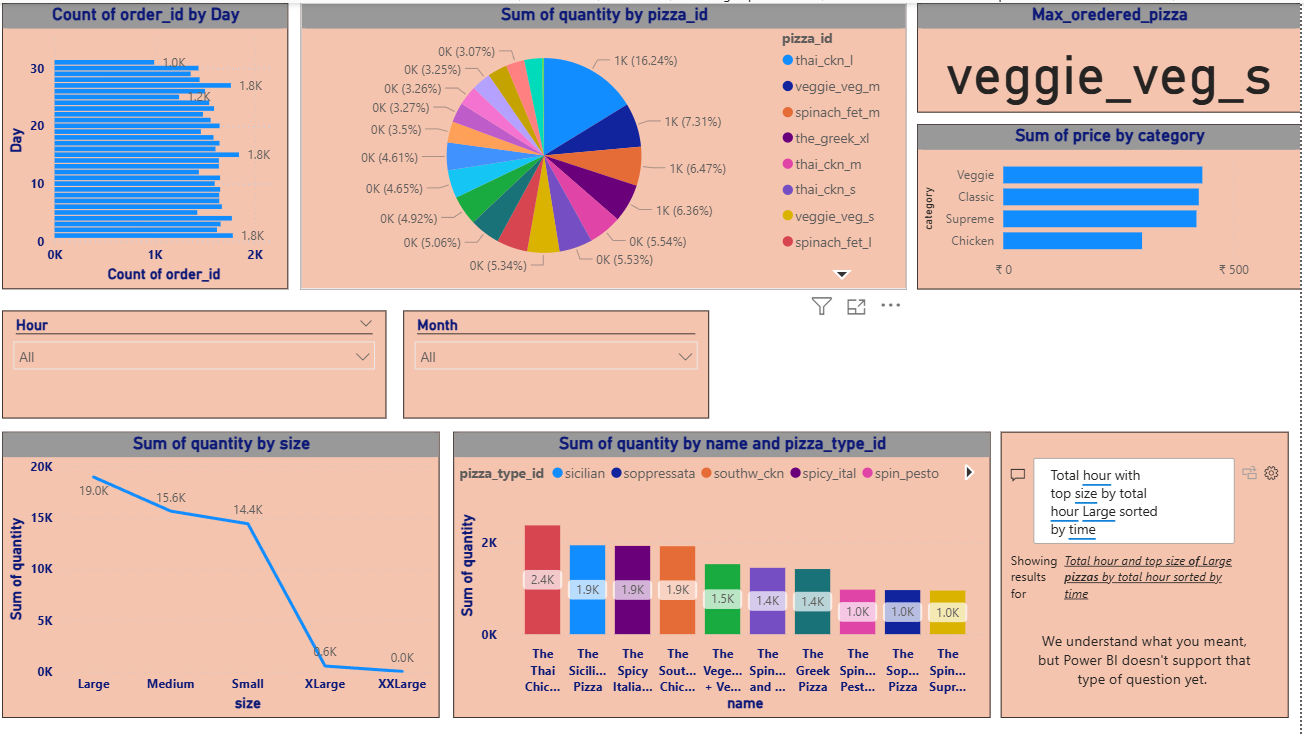

Layout of this report page (visuals, bound fields, positions):
{"tool":"powerbi","page":{"name":"Page 1","canvas":[1280,720],"ordinal":0},"visuals":[{"type":"barChart","fields":{"Y":["CountNonNull(Order details.order_id)"],"Category":["Orders.Day"]},"box":[10,0,280,280],"z":0},{"type":"card","title":"Max_oredered_pizza","fields":{"Values":["Order details.max_pizza"]},"box":[904.3,0,376,107],"z":1000},{"type":"pieChart","fields":{"Category":["Order details.pizza_id"],"Y":["Sum(Order details.quantity)"]},"box":[301.9,0,592.8,279.9],"z":2000},{"type":"slicer","fields":{"Values":["Orders.Hour"]},"box":[9.6,300.5,376,105.7],"z":3000},{"type":"lineChart","fields":{"Category":["Pizzas.size"],"Y":["Sum(Order details.quantity)"]},"box":[9.6,419.9,428.1,279.9],"z":4000},{"type":"lineStackedColumnComboChart","fields":{"Category":["Pizza types.name"],"Series":["Pizzas.pizza_type_id"],"Y":["Sum(Order details.quantity)"]},"box":[451.5,419.9,525.6,279.9],"z":5000},{"type":"qnaVisual","box":[986.6,419.9,281.3,279.9],"z":6000},{"type":"barChart","fields":{"Y":["Sum(Pizzas.price)"],"Category":["Pizza types.category"]},"box":[904.3,118,376,161.9],"z":7000},{"type":"slicer","fields":{"Values":["Orders.Month"]},"box":[402.1,300.5,299.1,105.7],"z":8000}]}

Visuals, with their boxes in screenshot pixels (x1, y1, x2, y2), scaled from the page's 1280x720 canvas onto the 1304x734 screenshot:
barChart - CountNonNull(Order details.order_id) x Orders.Day: [10,0,295,285]
"Max_oredered_pizza" card: [921,0,1303,109]
pieChart - Order details.pizza_id x Sum(Order details.quantity): [308,0,911,285]
slicer - Orders.Hour: [10,306,393,414]
lineChart - Pizzas.size x Sum(Order details.quantity): [10,428,446,713]
lineStackedColumnComboChart - Pizza types.name x Pizzas.pizza_type_id: [460,428,995,713]
qnaVisual: [1005,428,1292,713]
barChart - Sum(Pizzas.price) x Pizza types.category: [921,120,1303,285]
slicer - Orders.Month: [410,306,714,414]
